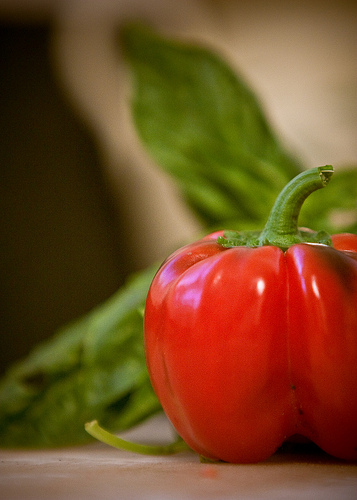capsicum: (141, 164, 355, 466)
